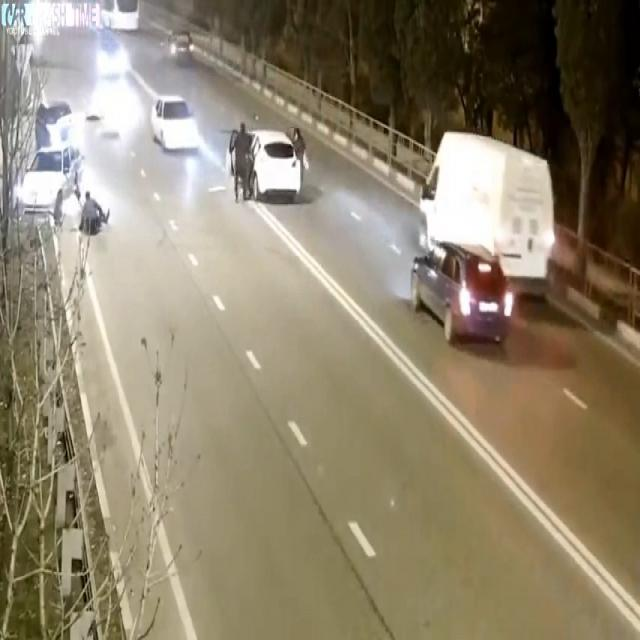Accident: (13, 82, 108, 246)
